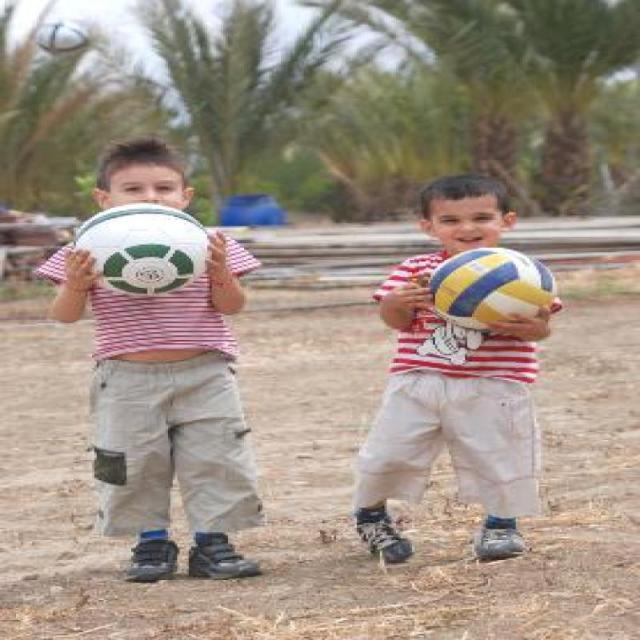volleyball: (426, 246, 557, 332)
